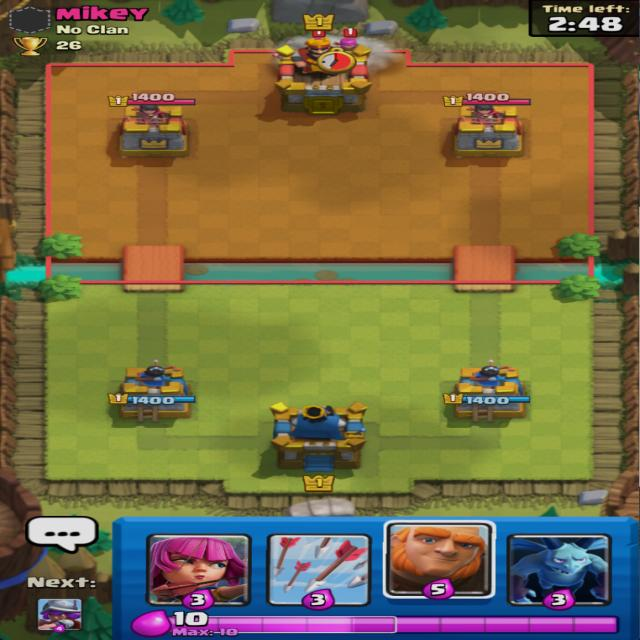10_Elixer: (174, 611, 208, 626)
Archers_Card: (147, 534, 252, 610)
Arrows_Card: (266, 534, 371, 612)
Bridge: (122, 245, 182, 292), (455, 245, 514, 292)
Elixer_Bar: (131, 608, 621, 638)
Emote: (26, 516, 98, 554)
Enemy_Archer_Troop: (335, 28, 364, 50)
Enemy_King_Tower: (255, 14, 375, 127)
Enemy_Princess_Tower: (105, 91, 198, 168), (439, 93, 532, 168)
Giant_In_Hand: (384, 520, 496, 612)
King_Tower: (252, 400, 370, 491)
Minions_Card: (507, 534, 613, 612)
Musketeer_Next: (26, 577, 97, 632)
Princess_Tower: (106, 358, 200, 428), (441, 360, 533, 428)
River: (184, 257, 456, 285), (3, 257, 124, 284), (516, 258, 640, 284)
Time_Left: (531, 0, 640, 37)
